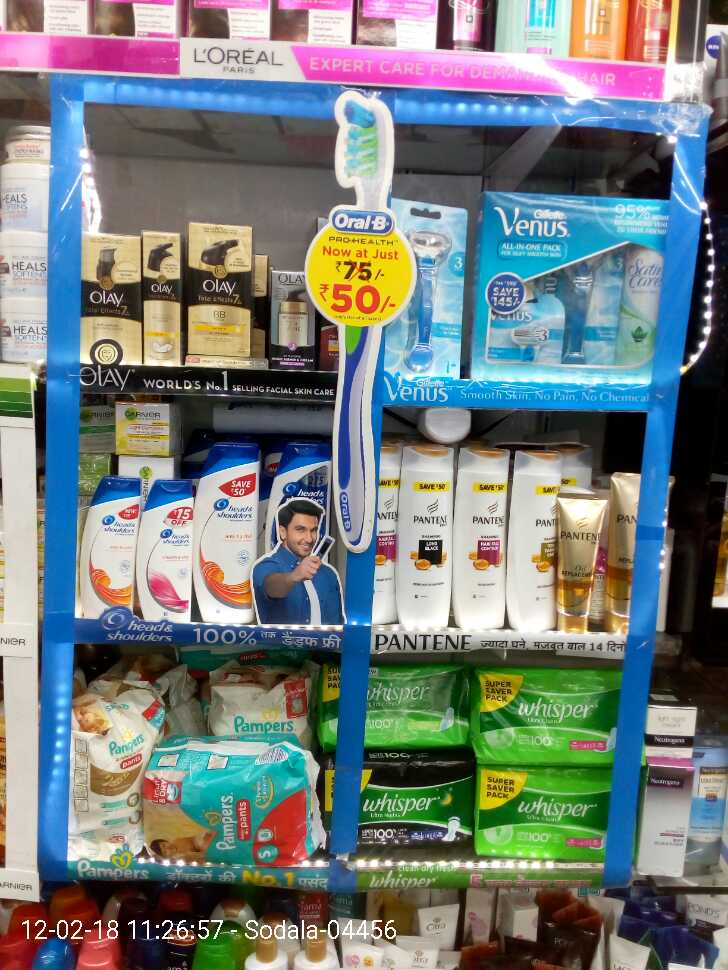venus: (474, 194, 674, 376), (401, 203, 463, 377)
